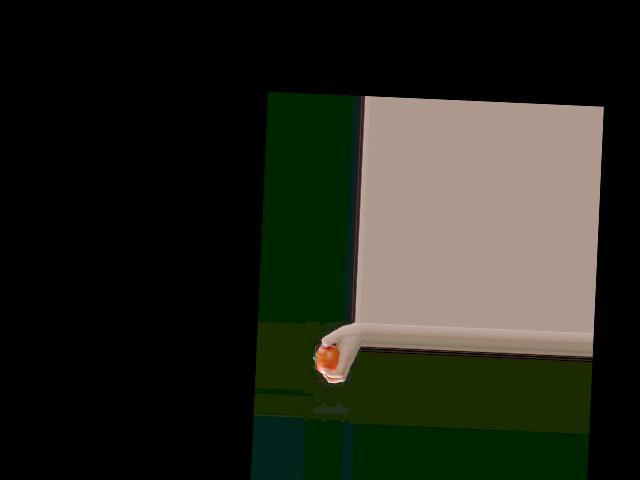tomato: (313, 343, 339, 374)
